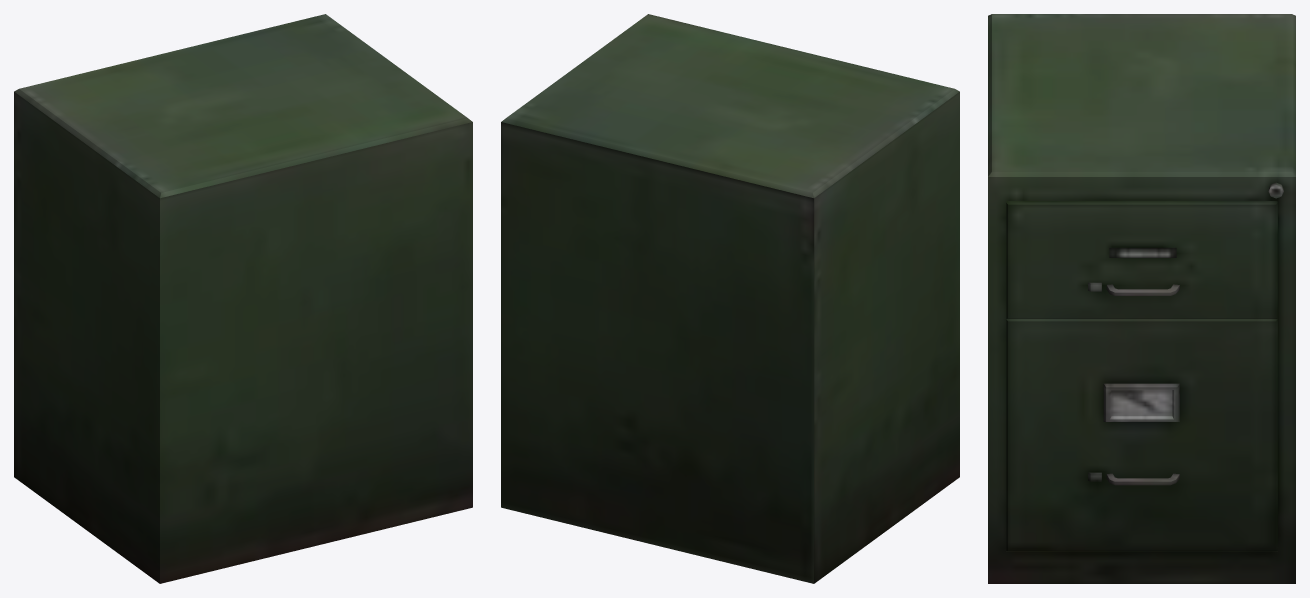
Rendered from controlroom_filecabinet001a.glb.
The picture shows the model from 3 angles, left to right: view 1: azimuth 30°, elevation 25°; view 2: azimuth 150°, elevation 25°; view 3: azimuth 270°, elevation 25°; orthographic projection. The views are drawn at different scales.
Visible parts, largest first — view 1: 0_controlroom_filecabinets001; view 2: 0_controlroom_filecabinets001; view 3: 0_controlroom_filecabinets001.
Part boxes in pixels (x1,y1,x2,y2): 0_controlroom_filecabinets001: (14, 14, 472, 583); 0_controlroom_filecabinets001: (501, 14, 959, 583); 0_controlroom_filecabinets001: (988, 14, 1295, 583).
Size of the model in its own units: 0.609 by 0.6875 by 0.4674.
Materials: 1 (1 with a texture image).
